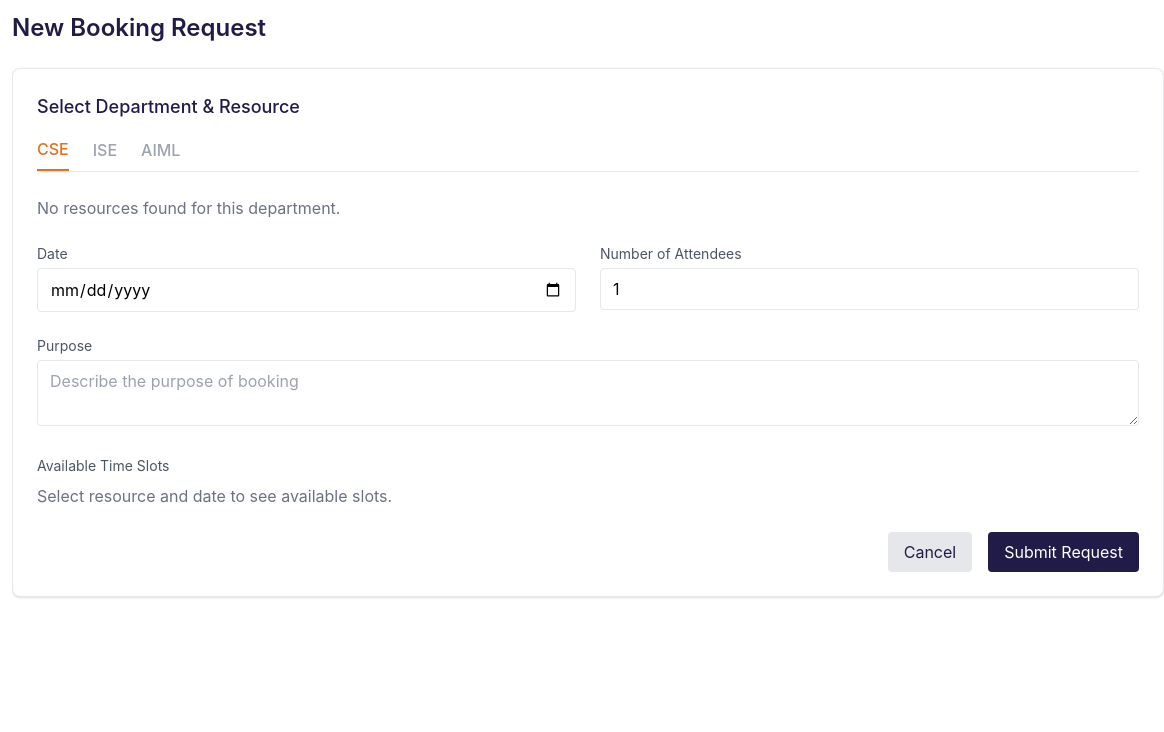
Test: New Booking Page › loads resources when department is selected
// Click on CSE department tab
Click the button "CSE". click: (53, 154)
box: 37,137 -> 69,171
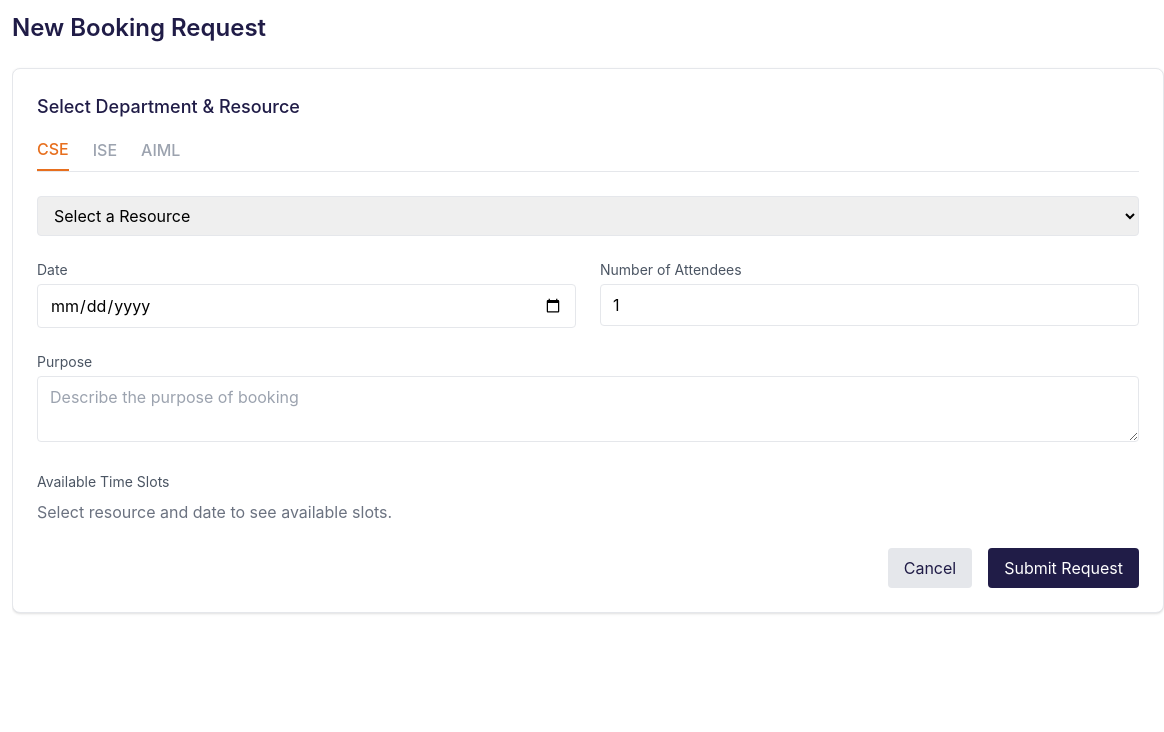
Now the dropdown is shown, box 37,196 -> 1139,236
